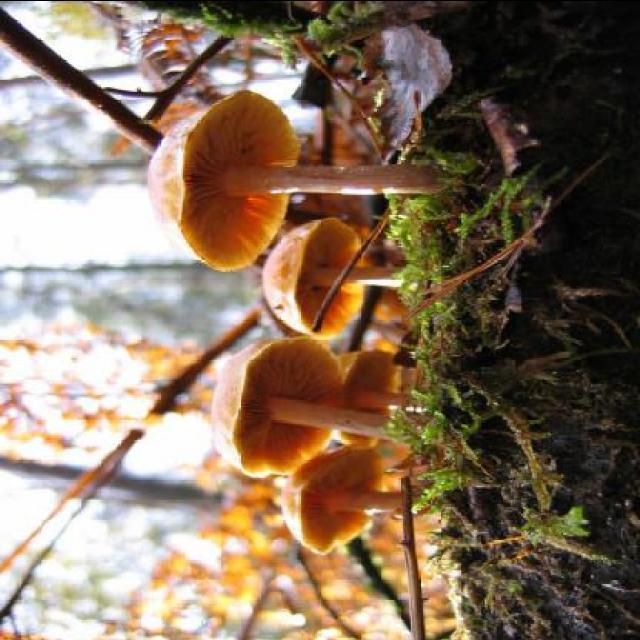Mushroom: (208, 216, 440, 554), (148, 85, 458, 268)
